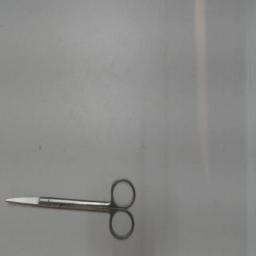Curved Mayo Scissors: (3, 172, 139, 244)
